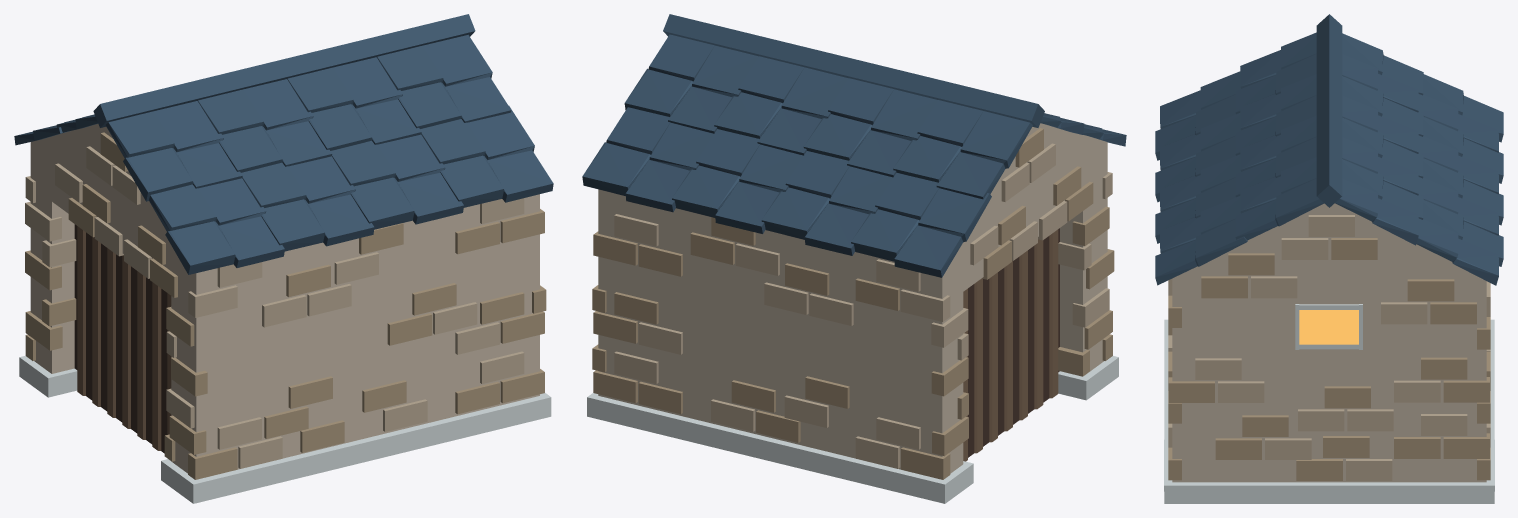
Rendered from SM_Garrage_2.fbx.
The picture shows the model from 3 angles, left to right: view 1: azimuth 30°, elevation 25°; view 2: azimuth 150°, elevation 25°; view 3: azimuth 270°, elevation 25°; orthographic projection. The views are drawn at different scales.
Parts seen in each view (by area): view 1: SM_Garrage_2_LOD0; view 2: SM_Garrage_2_LOD0; view 3: SM_Garrage_2_LOD0.
Boxes of the visible parts, x1,y1,x2,y2 form: SM_Garrage_2_LOD0: (14,14,553,503); SM_Garrage_2_LOD0: (582,14,1126,503); SM_Garrage_2_LOD0: (1155,14,1503,503).
Size of the model in its own units: 450 by 388 by 394.
1 material, 1 textured.
